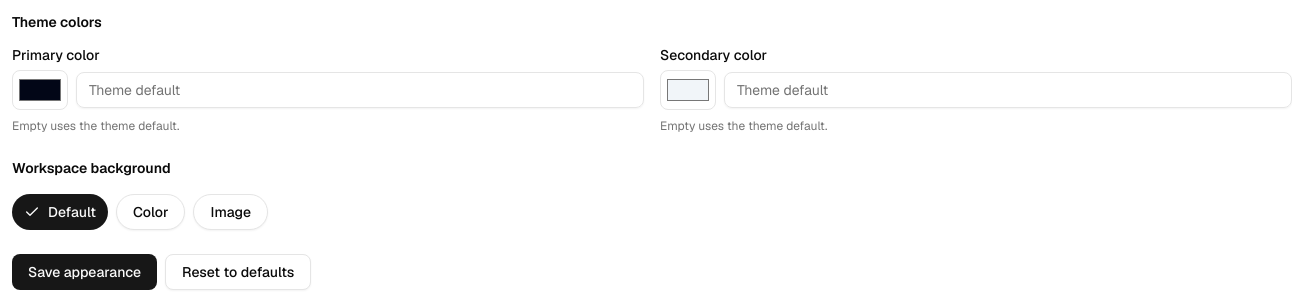
Scenario: AppearanceForm › theme default and feedback › explains an invalid hex inline
The width and height of the screenshot is (1304, 307).
Type "blue" into the field named "Primary color hex".
click(360, 90); type("blue")  # box [76,72,644,108]
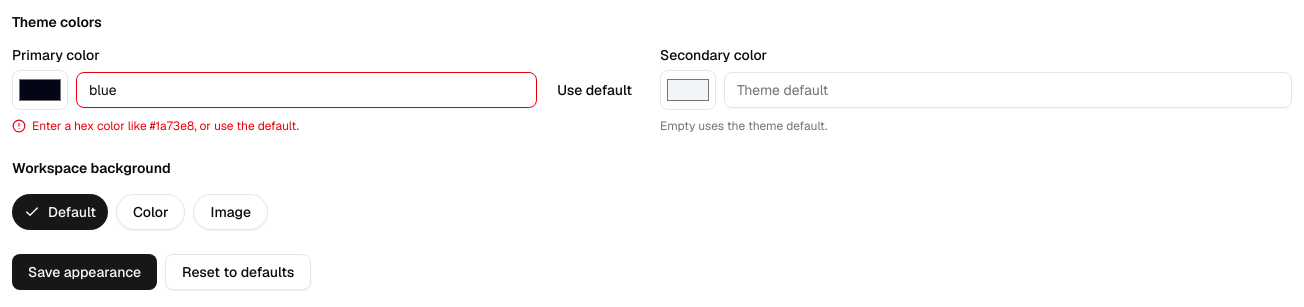
Result: the text "Enter a hex color like #1a73e8, or use the default." is shown at [32,118,299,134]
